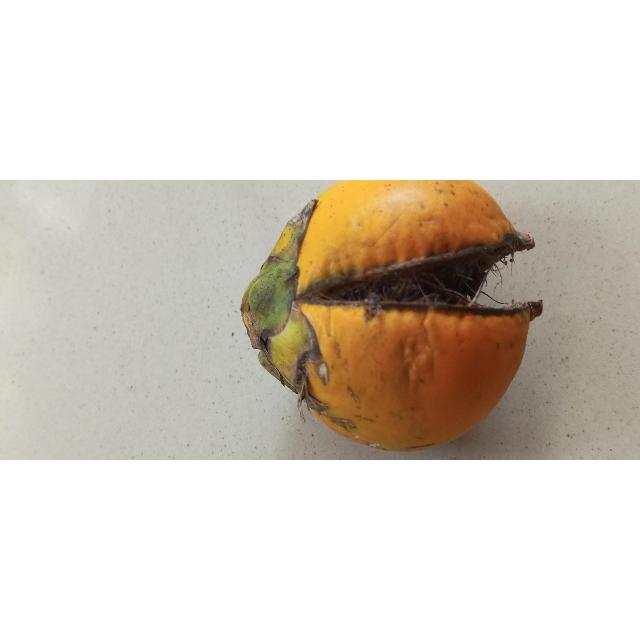damaged: (248, 180, 543, 453)
